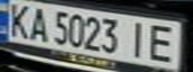0: (66, 11, 84, 48)
2: (81, 14, 103, 52)
3: (100, 16, 124, 55)
5: (48, 9, 72, 46)
A: (24, 4, 51, 43)
E: (142, 20, 187, 64)
I: (121, 18, 154, 58)
K: (3, 1, 33, 38)
